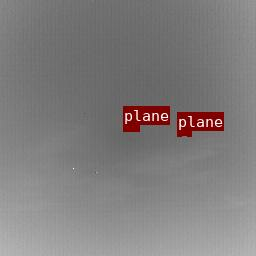plane: (123, 125, 139, 131), (177, 131, 191, 135)
